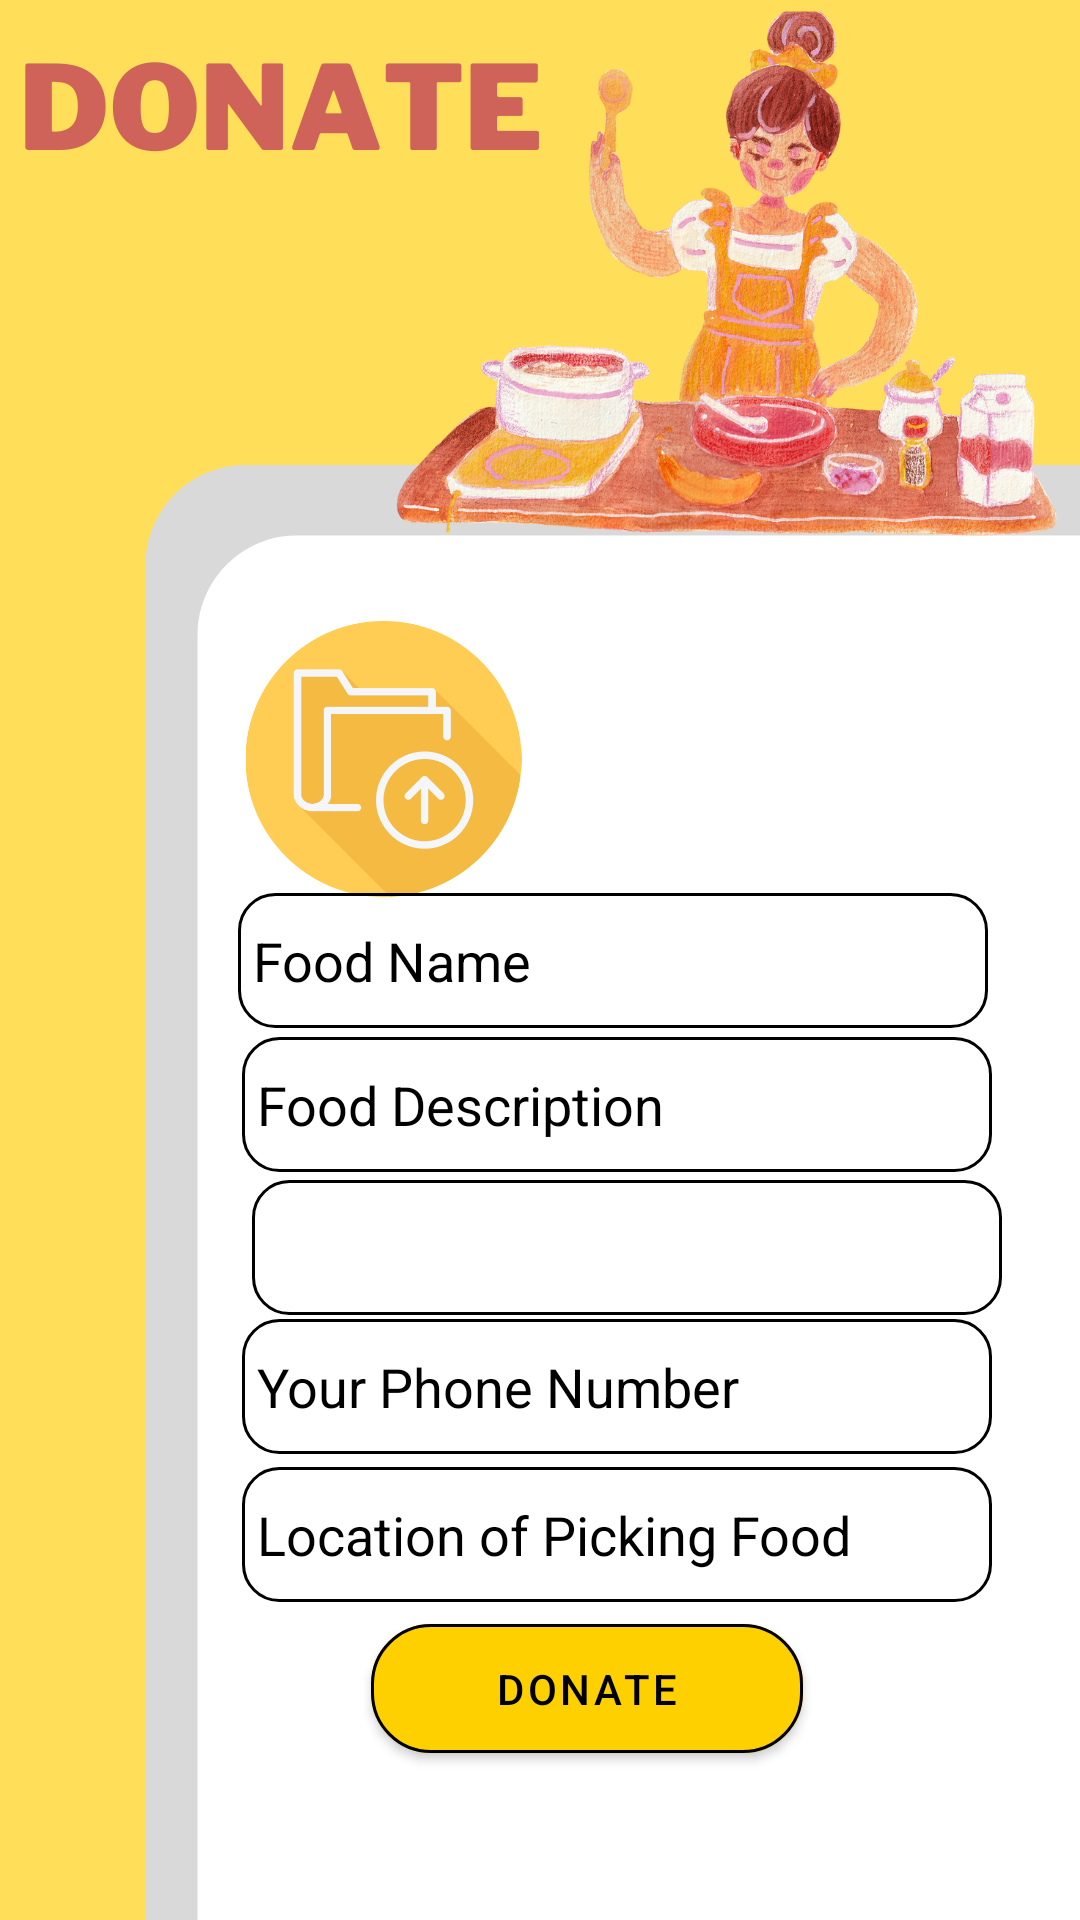

Icons on this 1080×1920 Android screen, each with its box as (x1, y1, x2, y2):
folder: (246, 621, 559, 897)
